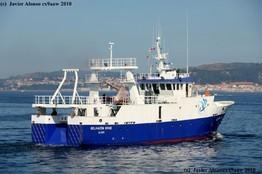otherboat: (28, 16, 235, 150)
